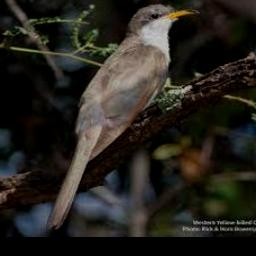Cuckoo: (46, 5, 199, 230)
